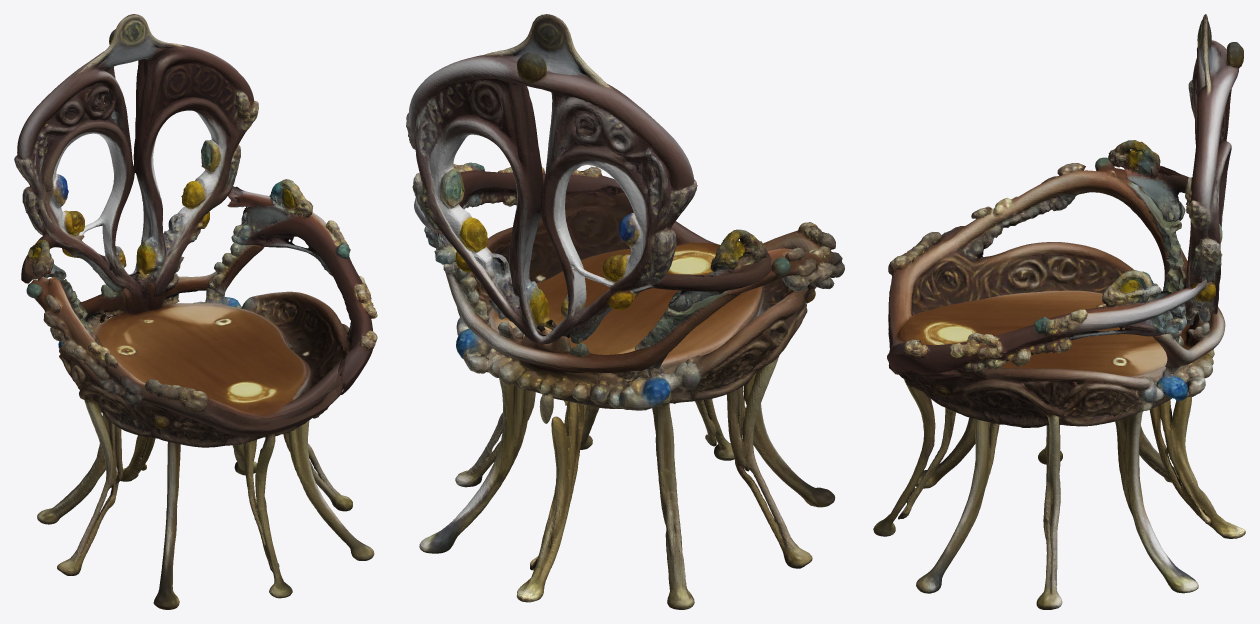
The picture shows the model from 3 angles, left to right: view 1: azimuth 30°, elevation 25°; view 2: azimuth 150°, elevation 25°; view 3: azimuth 270°, elevation 25°; orthographic projection. The views are drawn at different scales.
Visible parts, largest first — view 1: 1, 2, 3, 0; view 2: 1, 2, 0, 3; view 3: 1, 2, 3, 0.
Boxes of the visible parts, bbox=[...] form: 1: bbox=[26, 243, 374, 609]; 2: bbox=[14, 14, 258, 298]; 3: bbox=[227, 179, 377, 395]; 0: bbox=[116, 435, 155, 481]; 1: bbox=[419, 192, 844, 609]; 2: bbox=[406, 14, 771, 343]; 0: bbox=[516, 400, 586, 602]; 3: bbox=[414, 162, 624, 264]; 1: bbox=[873, 157, 1225, 609]; 2: bbox=[1108, 14, 1243, 325]; 3: bbox=[887, 270, 1206, 375]; 0: bbox=[1149, 397, 1245, 538].
Size of the model in its own units: 0.6358 by 0.9633 by 0.626.
Materials: 4 (4 with a texture image).
